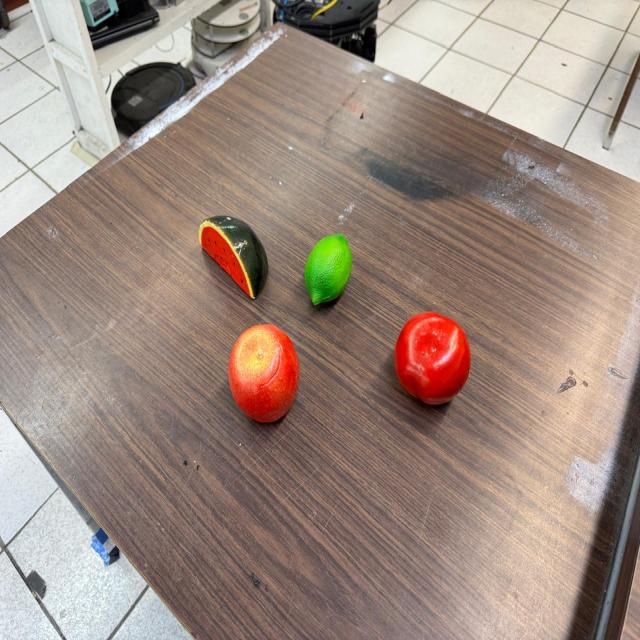apple: (228, 324, 299, 422)
lemon: (304, 233, 353, 305)
tomato: (394, 312, 471, 404)
watermelon: (198, 214, 268, 300)
